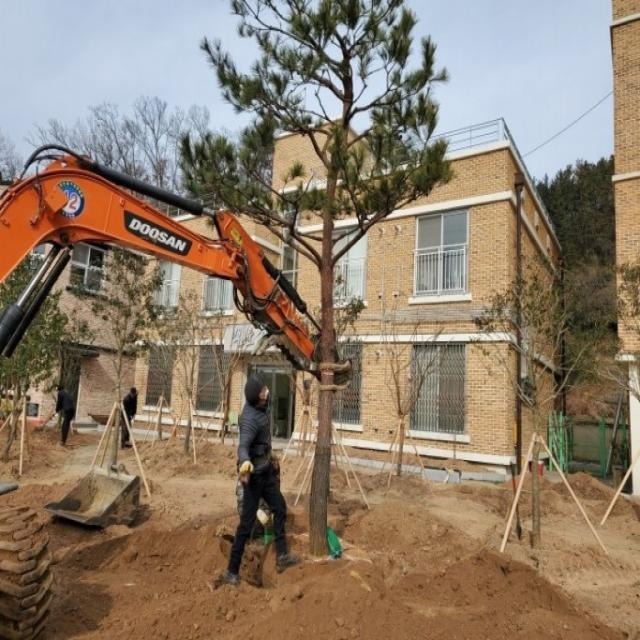excavator: (0, 145, 316, 372)
plant: (178, 0, 455, 558), (470, 245, 604, 543), (71, 248, 166, 493), (0, 256, 69, 461)
wood: (540, 436, 608, 554), (500, 432, 536, 552), (332, 424, 371, 509), (601, 448, 640, 525), (121, 404, 151, 497), (90, 402, 116, 470), (294, 450, 315, 505), (19, 396, 26, 476), (190, 398, 196, 464)
